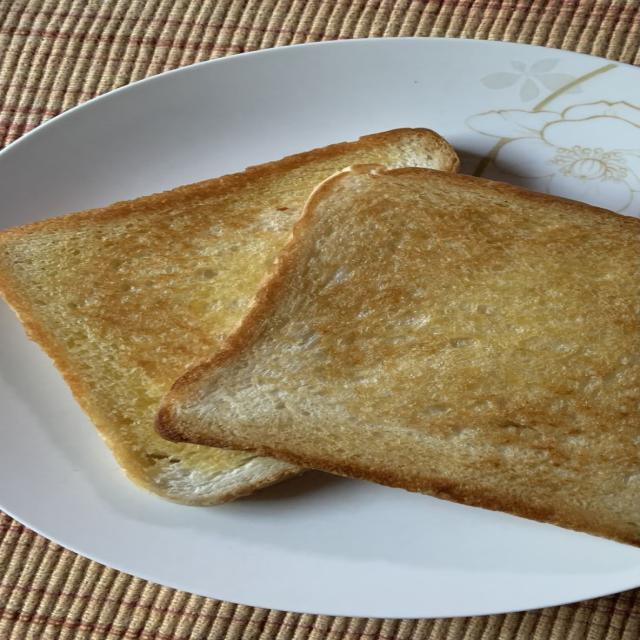toast bread: (157, 165, 639, 546), (0, 129, 458, 506)
